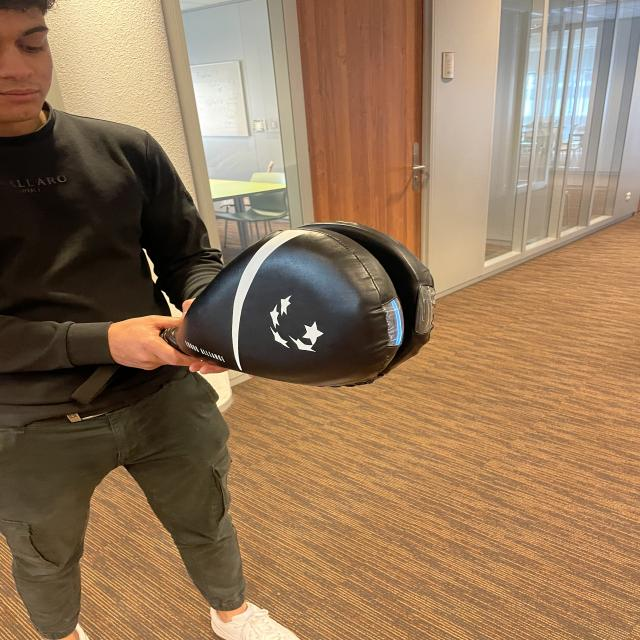paddle: (189, 221, 437, 388)
trigger: (378, 292, 406, 348)
